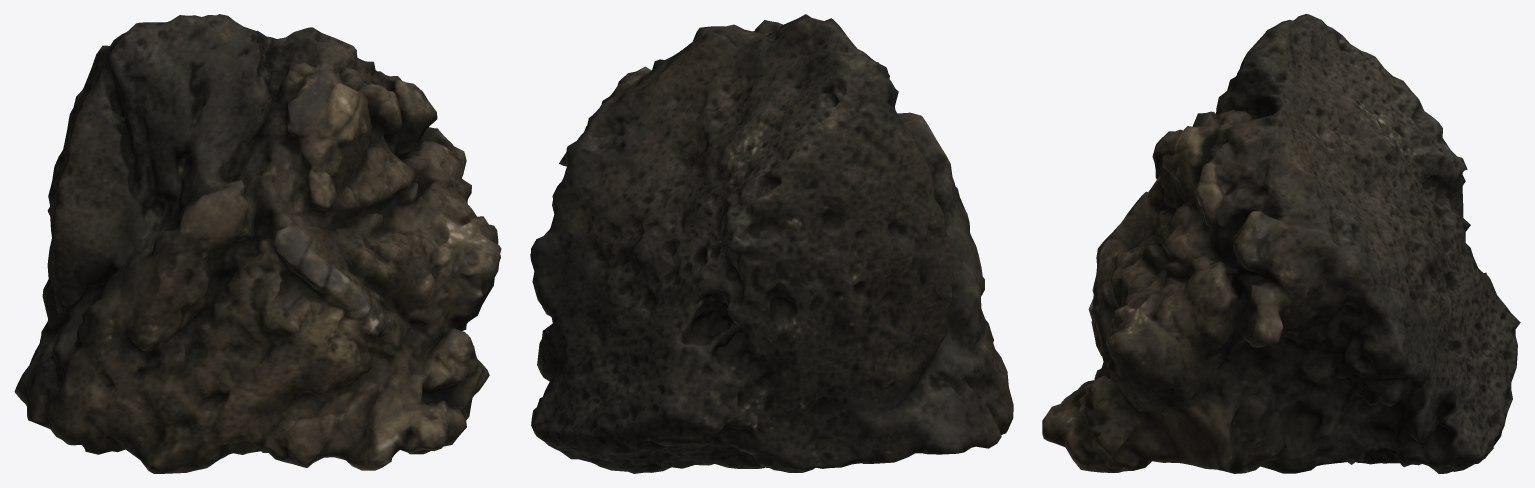
3 views of the same model, side by side, from view 1: azimuth 30°, elevation 25°; view 2: azimuth 150°, elevation 25°; view 3: azimuth 270°, elevation 25° (orthographic). The views are drawn at different scales.
Visible parts, largest first — view 1: Todos_LOD2; view 2: Todos_LOD2; view 3: Todos_LOD2.
Boxes of the visible parts, x1,y1,x2,y2 form: Todos_LOD2: (14, 14, 501, 473); Todos_LOD2: (530, 14, 1013, 473); Todos_LOD2: (1042, 14, 1520, 473).
Bounding box in the file's own units: 25.82 × 23.02 × 26.1.
1 material, 1 textured.
